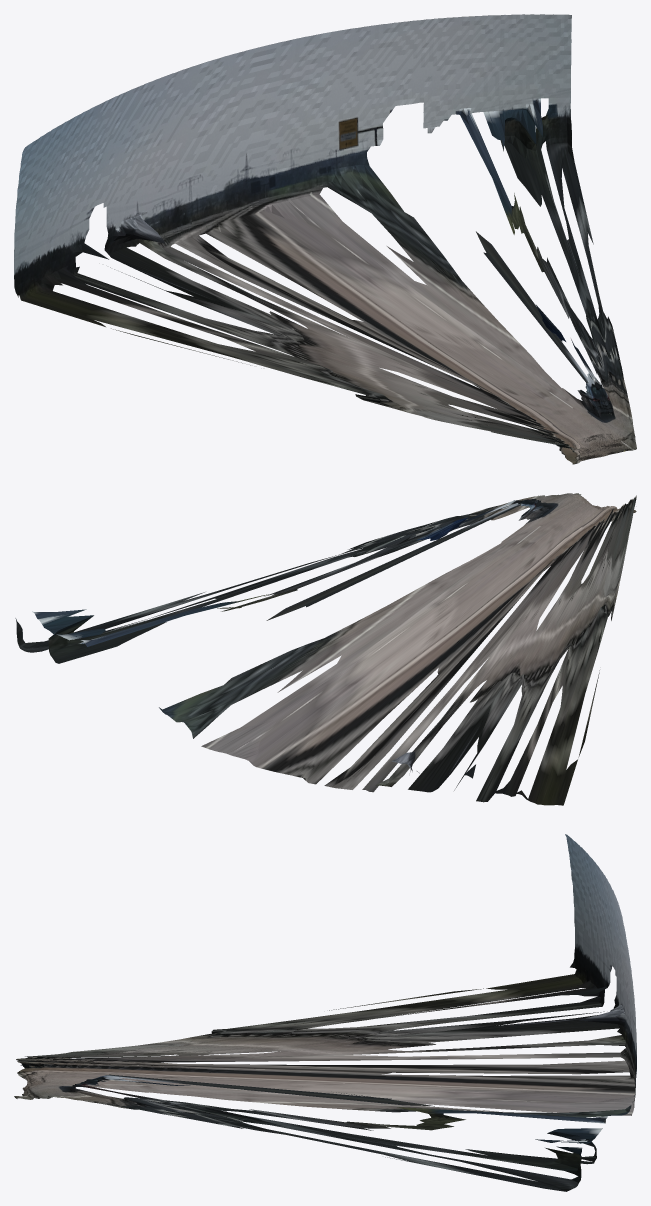
The picture shows the model from 3 angles, top to bottom: view 1: azimuth 30°, elevation 25°; view 2: azimuth 150°, elevation 25°; view 3: azimuth 270°, elevation 25°; orthographic projection. The views are drawn at different scales.
Visible parts, largest first — view 1: defaultobject; view 2: defaultobject; view 3: defaultobject.
Boxes of the visible parts, x1,y1,x2,y2 form: defaultobject: [14, 14, 636, 464]; defaultobject: [15, 493, 636, 805]; defaultobject: [14, 834, 636, 1191].
Bounding box in the file's own units: 41.14 × 12.69 × 44.81.
Materials: 1 (1 with a texture image).
